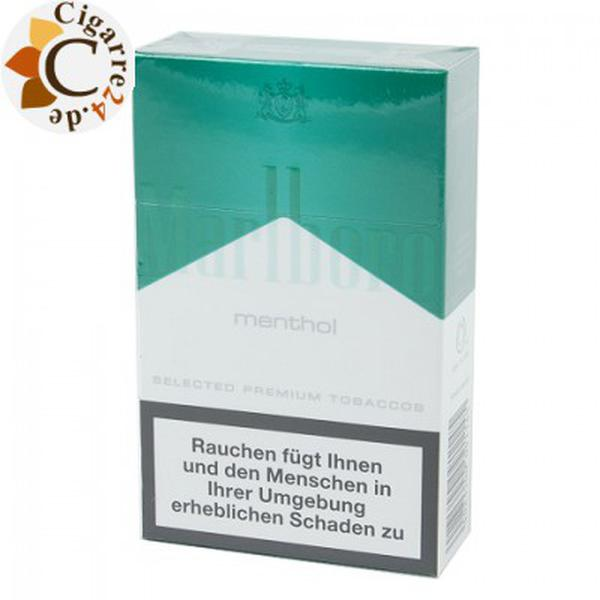marlboro_mentol: (142, 61, 438, 541)
